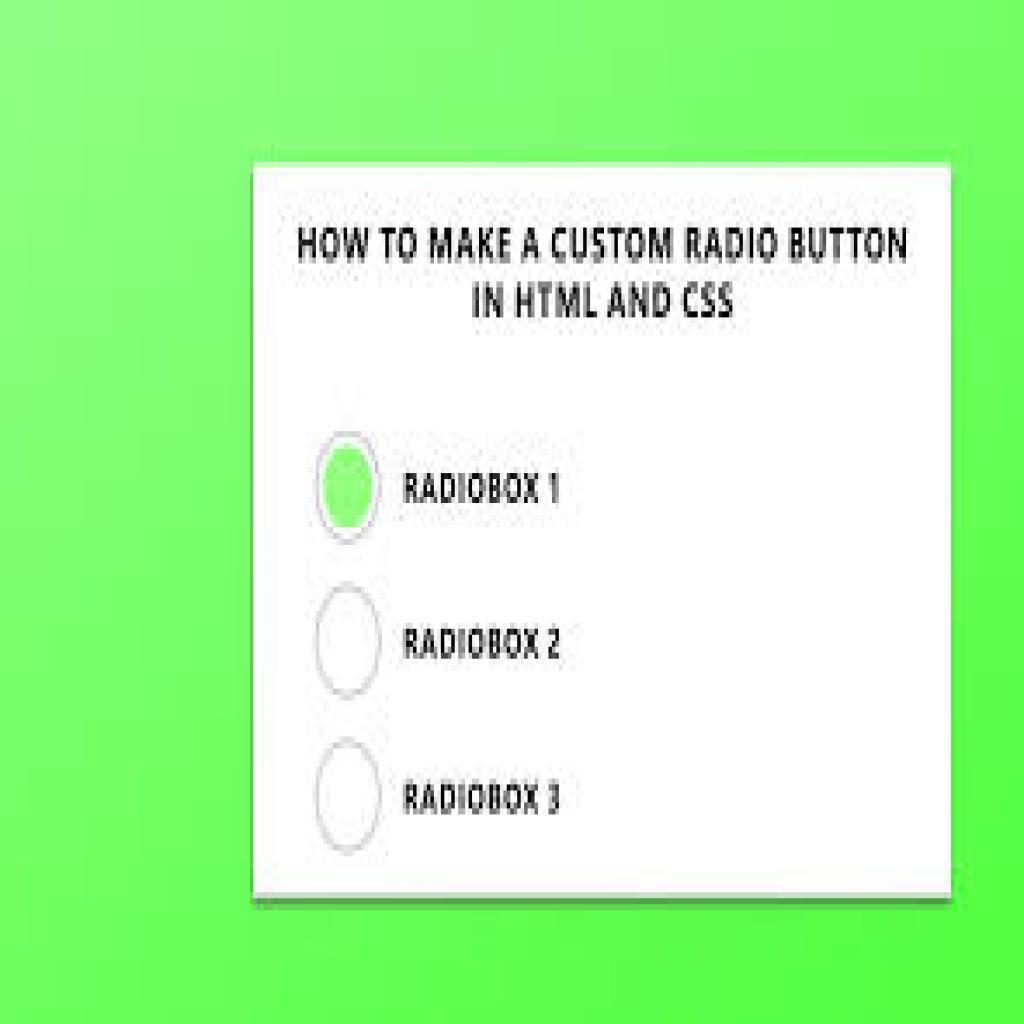label: (394, 460, 567, 511), (400, 774, 570, 821), (399, 620, 567, 667)
radio: (312, 581, 385, 702), (313, 734, 383, 856), (310, 428, 382, 545)
